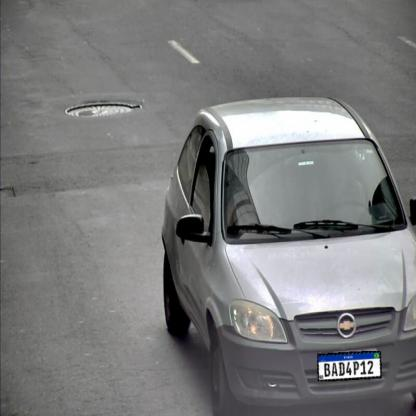PlacaM: (317, 351, 382, 381)
